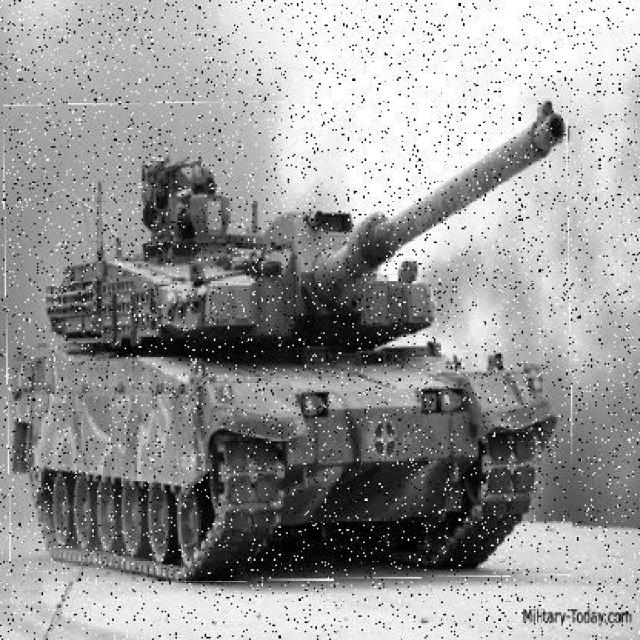Tank: (7, 98, 573, 582)
